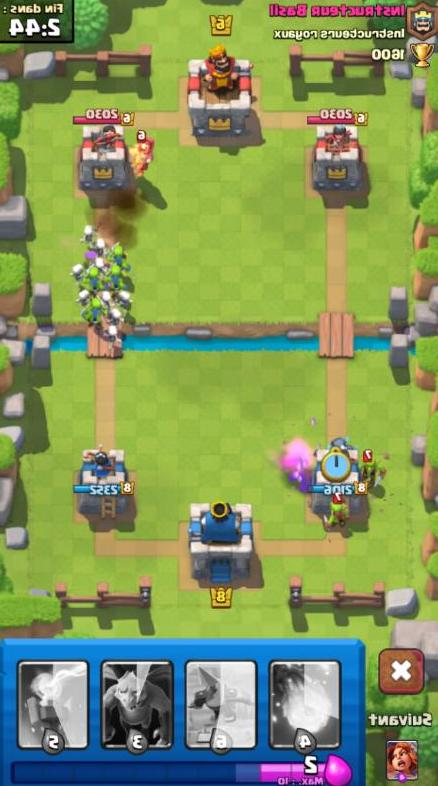enemy_goblins: (355, 449, 388, 491), (322, 493, 354, 533)
enemy_wizard: (126, 129, 160, 189)
player_goblins: (104, 259, 136, 288), (80, 300, 109, 329), (104, 240, 133, 268)
player_skeletons: (113, 285, 135, 311), (68, 260, 90, 284), (89, 254, 111, 278), (89, 233, 111, 257), (79, 223, 100, 248), (104, 318, 122, 342), (73, 287, 91, 311), (96, 289, 114, 313)
